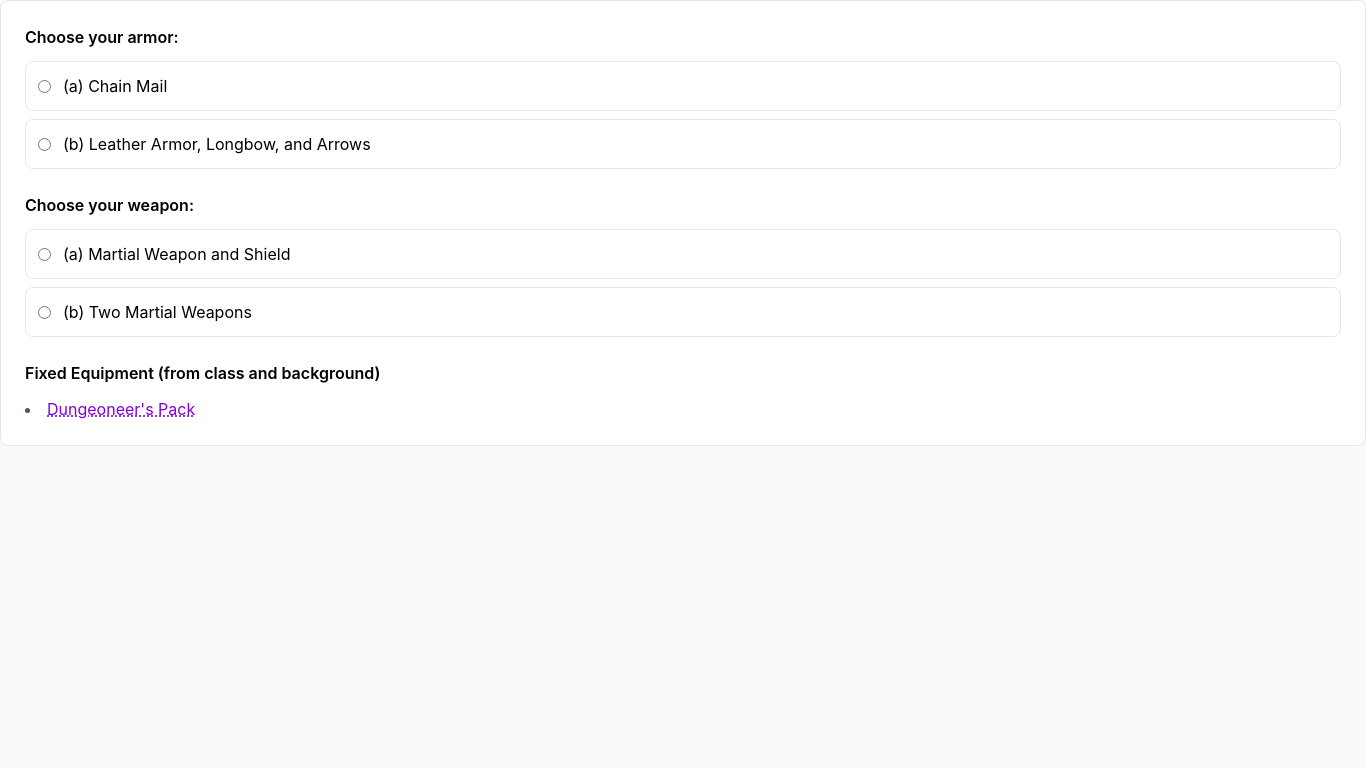
Test: EquipmentPackages › shows choice dropdown for choice type options in Fighter
The image size is (1366, 768).
Expected: the heading "Choose your weapon:" is shown, top-left (25, 195), bottom-right (194, 215)
Step 1. Click the radio button labelled "(a) Martial Weapon and Shield" → (44, 254), box top-left (38, 248), bottom-right (51, 260)
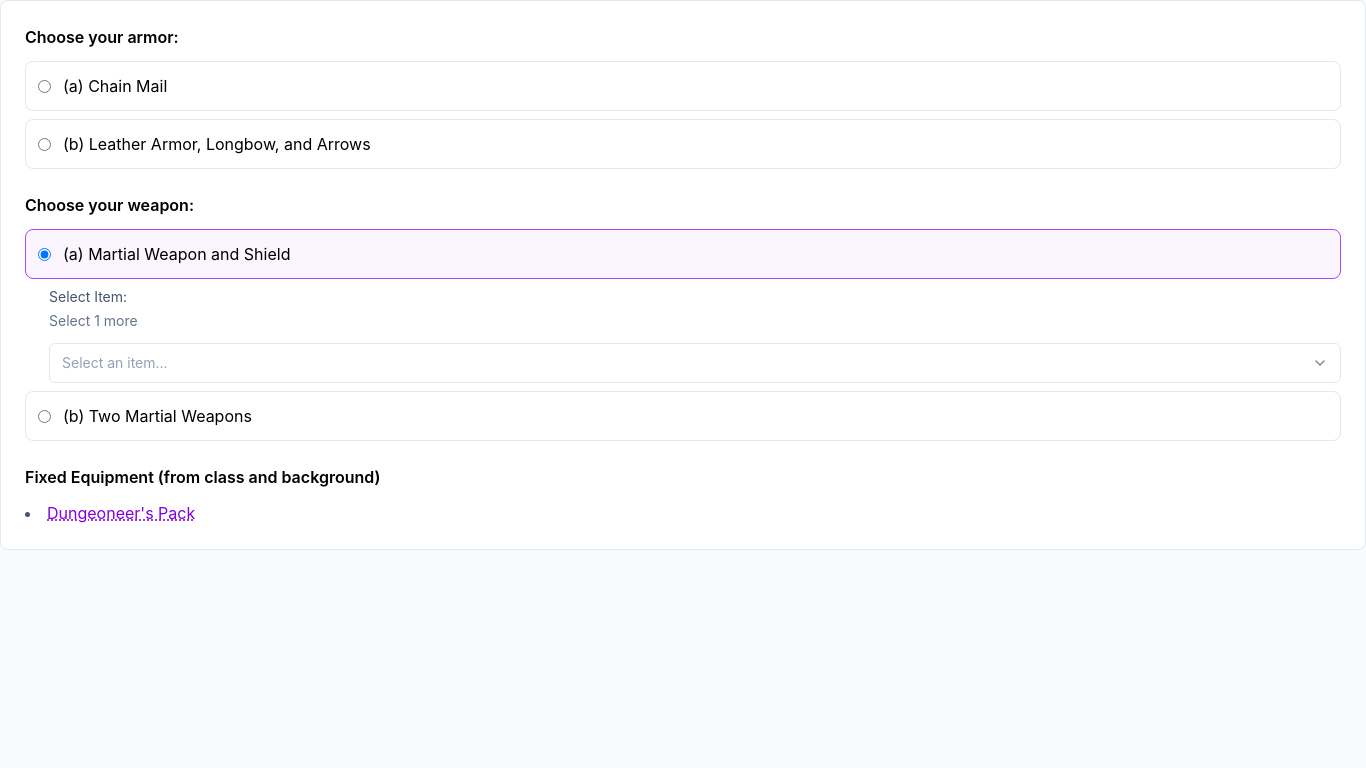
Expected: the text "Select Item:" is shown, top-left (49, 288), bottom-right (127, 305)
